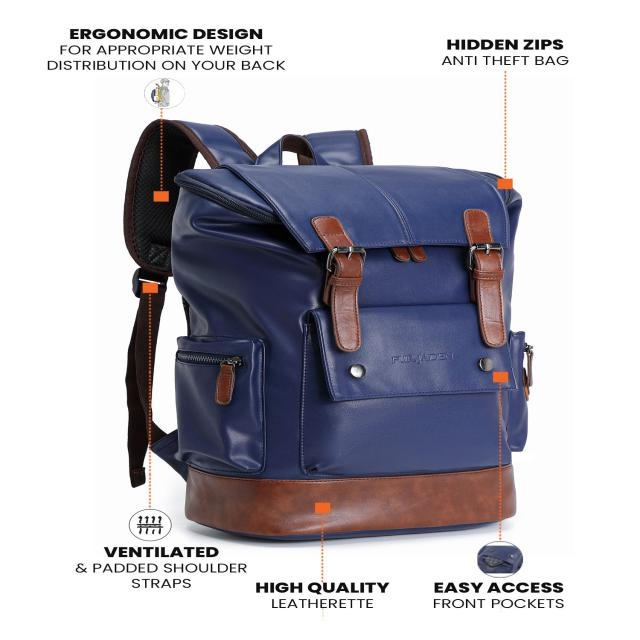backpack: (124, 118, 535, 542)
